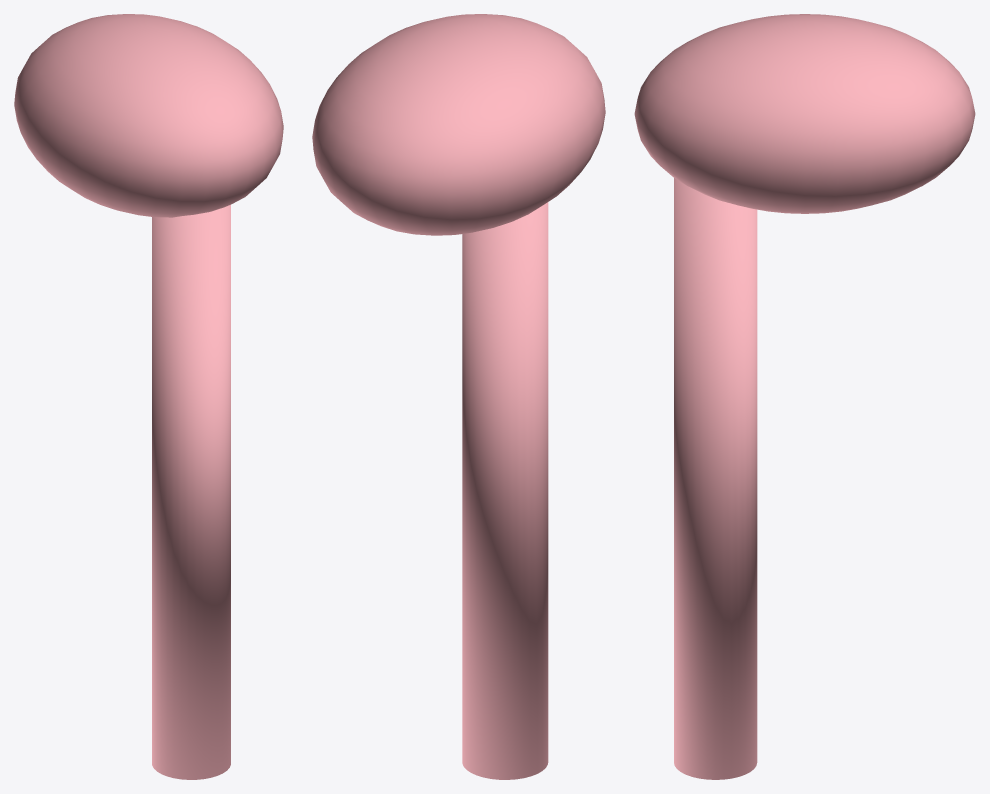
Rendered from Organ_Mouth_Esophagus.fbx.
The picture shows the model from 3 angles, left to right: view 1: azimuth 30°, elevation 25°; view 2: azimuth 150°, elevation 25°; view 3: azimuth 270°, elevation 25°; orthographic projection. The views are drawn at different scales.
Parts seen in each view (by area): view 1: Organ_Mouth_Esophagus; view 2: Organ_Mouth_Esophagus; view 3: Organ_Mouth_Esophagus.
Part boxes in pixels (bbox=[...]): Organ_Mouth_Esophagus: bbox=[14, 14, 283, 779]; Organ_Mouth_Esophagus: bbox=[312, 14, 605, 779]; Organ_Mouth_Esophagus: bbox=[634, 14, 975, 779].
Size of the model in its own units: 0.44 by 1.35 by 0.572.
